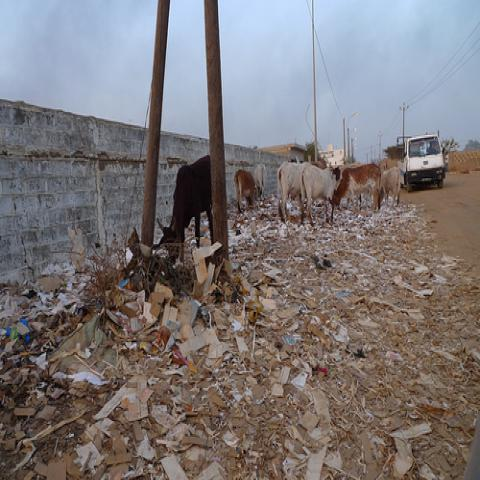truck: (396, 129, 446, 192)
